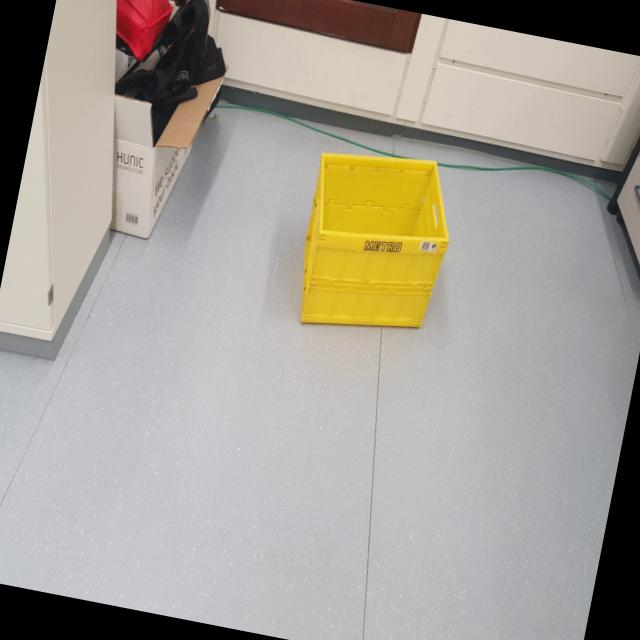box: (278, 133, 468, 370)
